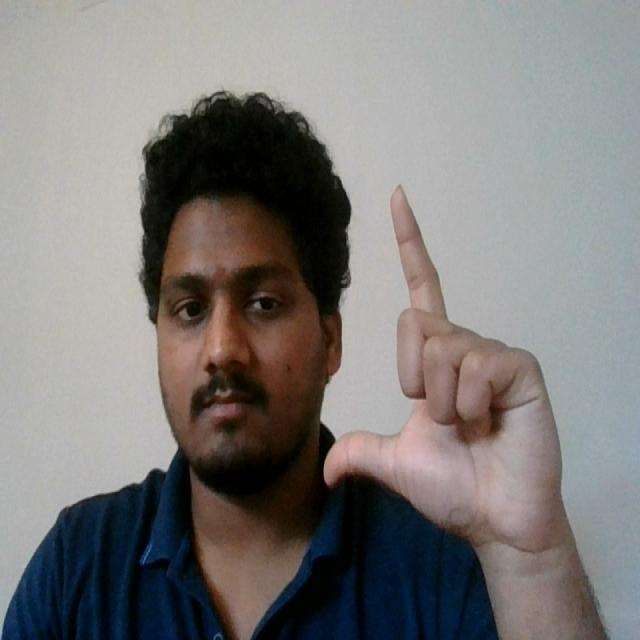IloveYou: (317, 179, 577, 567)
